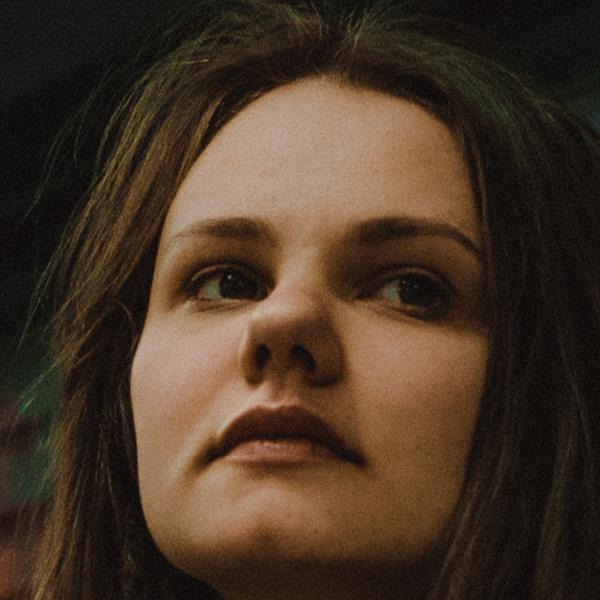Eyes: (344, 254, 471, 335), (172, 247, 273, 316)
